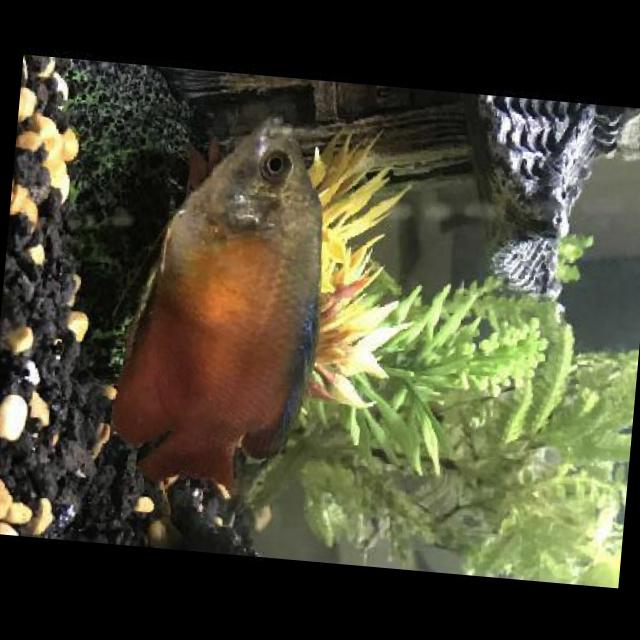Gourami: (101, 103, 346, 504)
